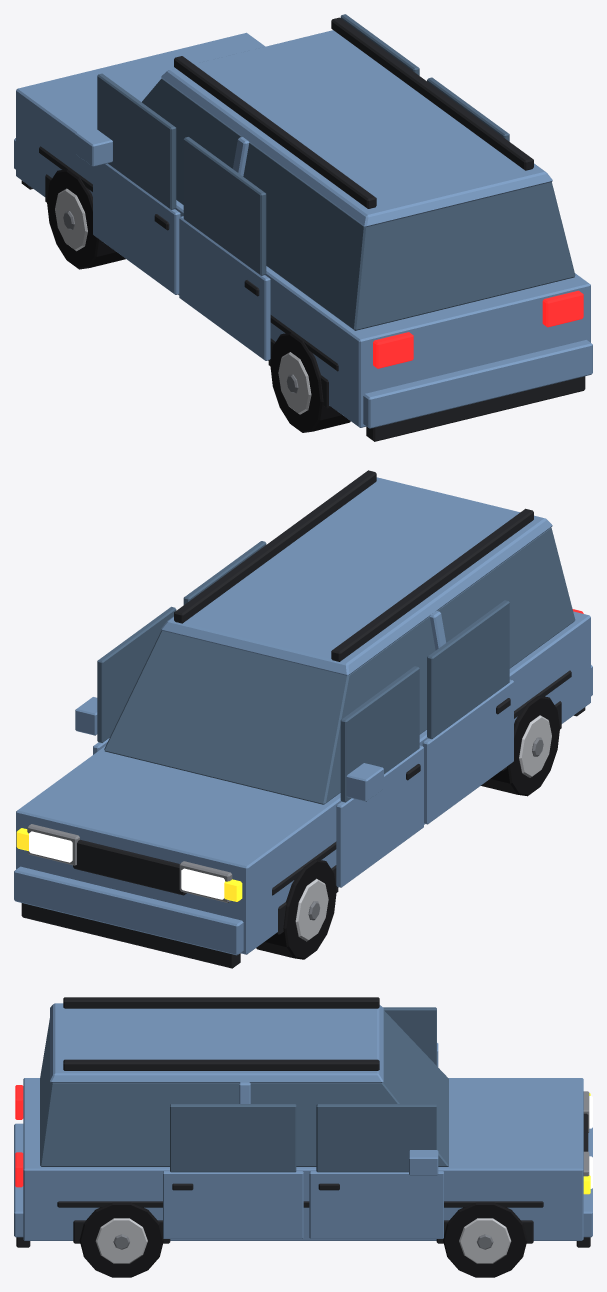
The model's file is car_minivan.glb.
3 renders of one model, top to bottom at view 1: azimuth 30°, elevation 25°; view 2: azimuth 150°, elevation 25°; view 3: azimuth 270°, elevation 25°, orthographic. The views are drawn at different scales.
Visible parts, largest first — view 1: car_body, car_door_RL, car_door_FL, car_door_RR, car_door_FR; view 2: car_body, car_door_RL, car_door_FL, car_door_FR, car_door_RR; view 3: car_body, car_door_RR, car_door_FR, car_door_FL.
Part boxes in pixels (x1,y1,x2,y2): car_body: [14, 17, 592, 441]; car_door_RL: [179, 137, 270, 360]; car_door_FL: [75, 73, 180, 294]; car_door_RR: [427, 77, 509, 141]; car_door_FR: [340, 14, 419, 75]; car_body: [14, 470, 592, 968]; car_door_RL: [422, 600, 513, 824]; car_door_FL: [336, 666, 423, 887]; car_door_FR: [75, 606, 176, 754]; car_door_RR: [183, 541, 266, 604]; car_body: [14, 997, 592, 1277]; car_door_RR: [163, 1104, 303, 1238]; car_door_FR: [309, 1104, 443, 1238]; car_door_FL: [383, 1007, 438, 1066].
Size of the model in its own units: 2.34 by 1.89 by 4.94.
